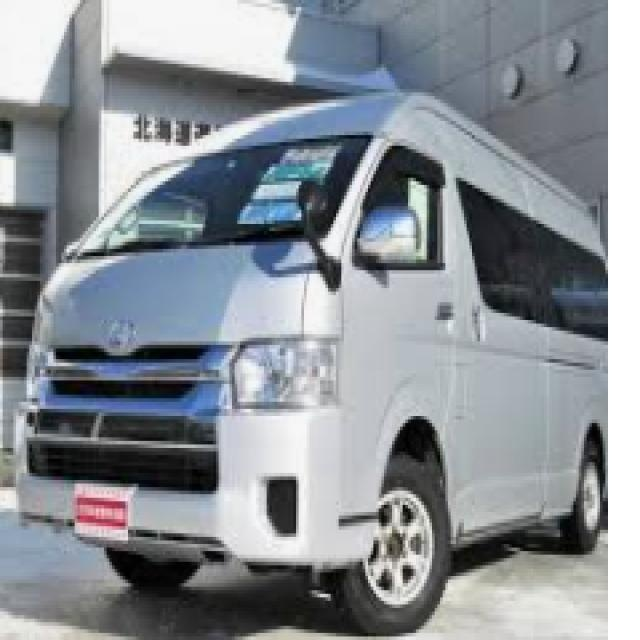Van: (13, 95, 606, 638)
